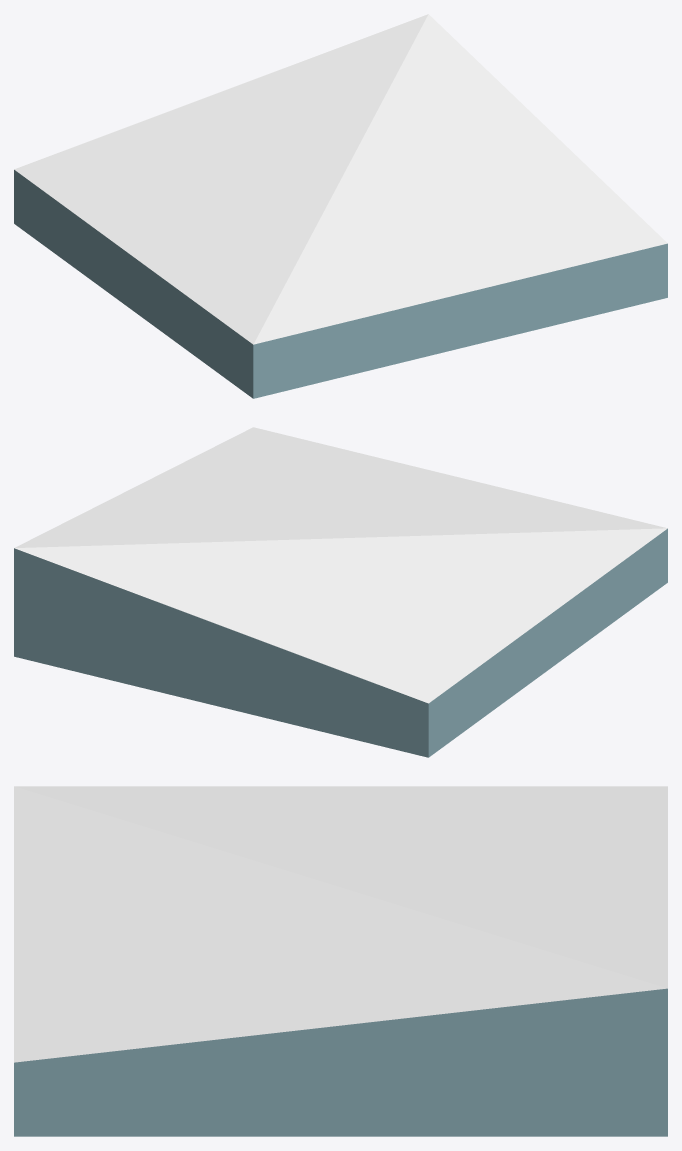
File: Terrain_Tile_Ice_Snow_Corner_Ramp_01.fbx
The picture shows the model from 3 angles, top to bottom: view 1: azimuth 30°, elevation 25°; view 2: azimuth 150°, elevation 25°; view 3: azimuth 270°, elevation 25°; orthographic projection. The views are drawn at different scales.
Parts seen in each view (by area): view 1: Model; view 2: Model; view 3: Model.
Part boxes in pixels (x1,y1,x2,y2): Model: [14, 14, 667, 398]; Model: [14, 427, 667, 757]; Model: [14, 786, 667, 1136].
Bounding box in the file's own units: 2000 × 500 × 2000.
